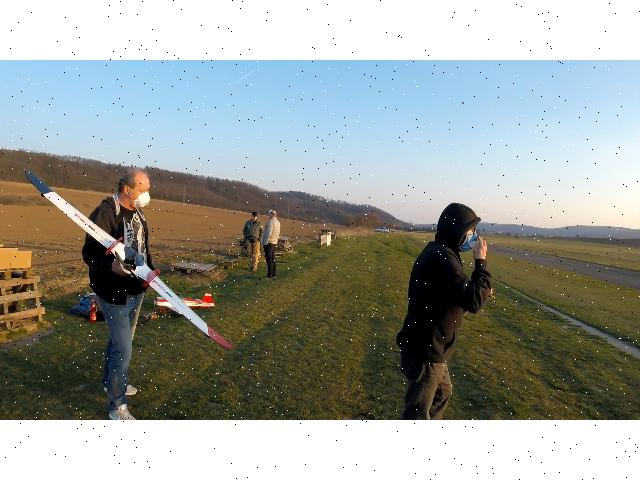Anti-Drone: (16, 166, 246, 356)
